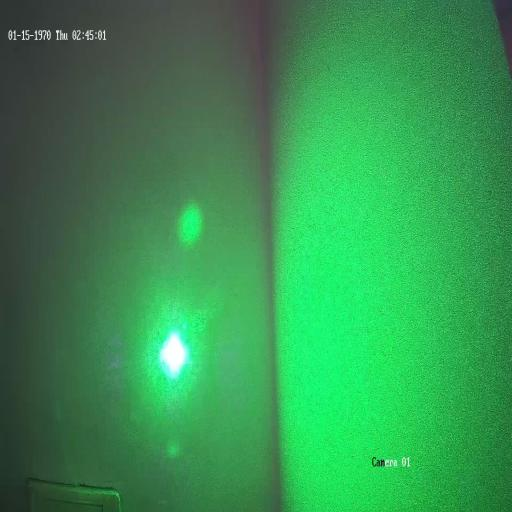laser: (152, 317, 194, 385)
